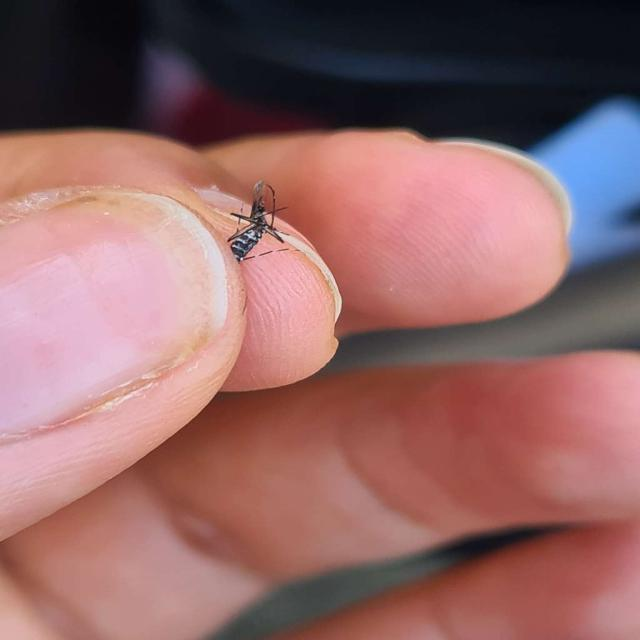albopictus: (221, 176, 307, 268)
